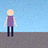person: (4, 9, 16, 36)
